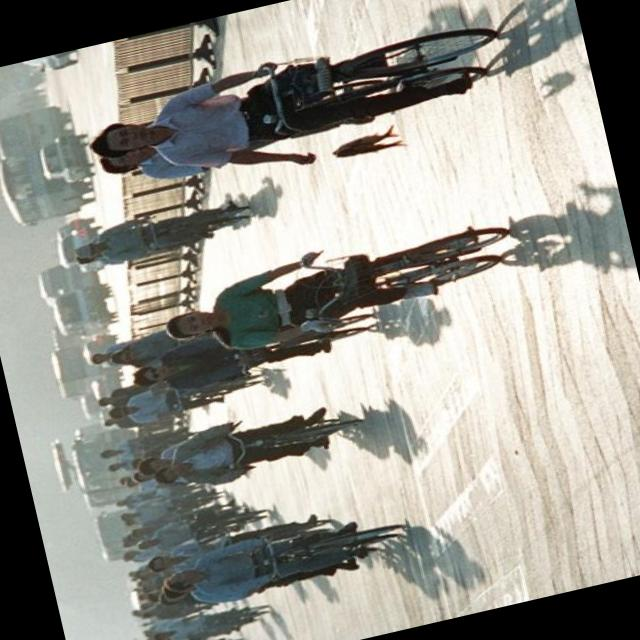bareface: (84, 108, 165, 164), (161, 302, 225, 347)
